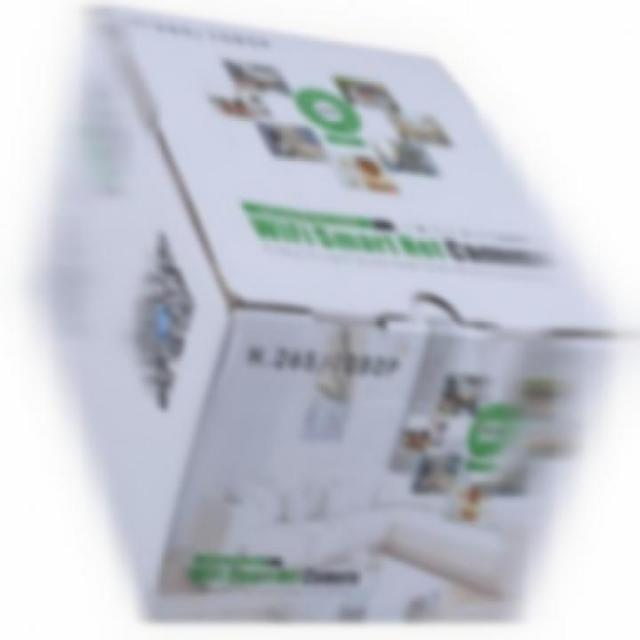box: (35, 5, 622, 626)
